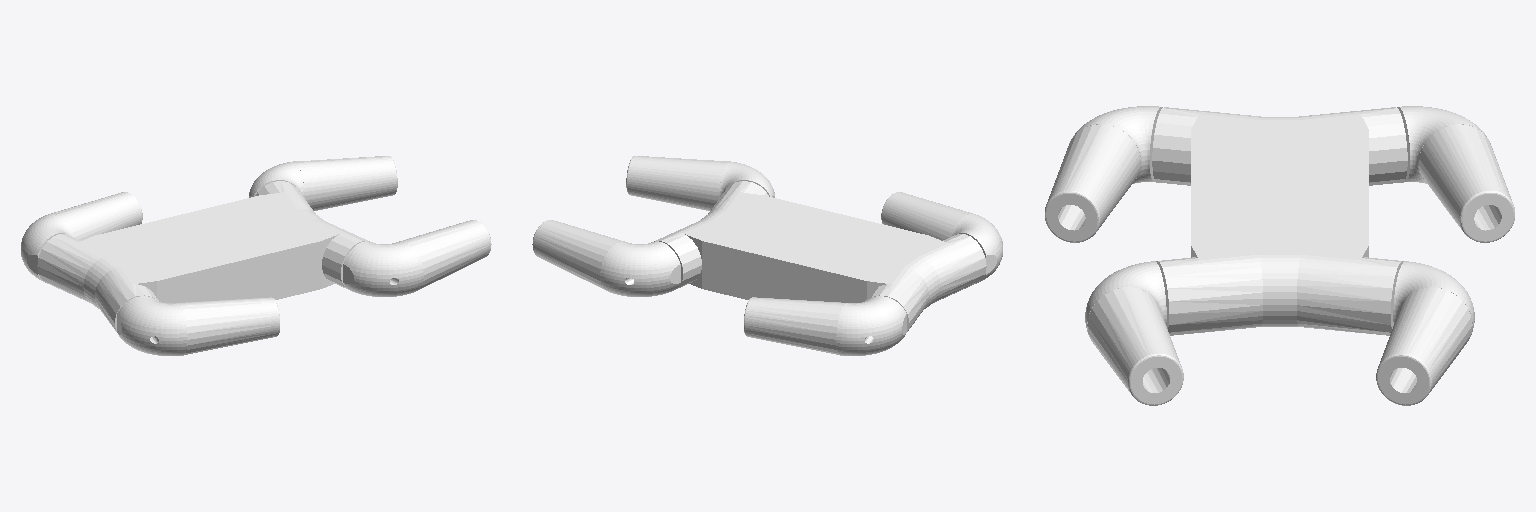
The robot description file, URDF, robot "13_degree":
<?xml version="1.0" encoding="utf-8"?>
<!-- This URDF was automatically created by SolidWorks to URDF Exporter! Originally created by [author] ([email redacted]) 
     Commit Version: 1.5.1-0-g916b5db  Build Version: 1.5.7152.31018
     For more information, please see http://wiki.ros.org/sw_urdf_exporter -->
<robot
  name="13_degree">
  <link
    name="base_link">
    <inertial>
      <origin
        xyz="1.3878E-17 3.1499E-08 -4.715E-15"
        rpy="0 0 0" />
      <mass
        value="2.942" />
      <inertia
        ixx="0.0100766"
        ixy="1.1102E-11"
        ixz="-1.5333E-10"
        iyy="0.0424493"
        iyz="-6.7806E-19"
        izz="0.0501301" />
    </inertial>
    <visual>
      <origin
        xyz="0 0 0"
        rpy="0 0 0" />
      <geometry>
        <mesh
          filename="package://13_degree/meshes/base_link.STL" />
      </geometry>
      <material
        name="">
        <color
          rgba="1 1 1 1" />
      </material>
    </visual>
    <collision>
      <origin
        xyz="0 0 0"
        rpy="0 0 0" />
      <geometry>
        <mesh
          filename="package://13_degree/meshes/base_link.STL" />
      </geometry>
    </collision>
  </link>
  <link
    name="left_front_link">
    <inertial>
      <origin
        xyz="-2.134E-08 0.063474 -0.022304"
        rpy="0 0 0" />
      <mass
        value="0.092" />
      <inertia
        ixx="0.0002604"
        ixy="5.8546E-10"
        ixz="9.3266E-10"
        iyy="0.0000530"
        iyz="-0.0000245"
        izz="0.0002571" />
    </inertial>
    <visual>
      <origin
        xyz="0 0 0"
        rpy="0 0 0" />
      <geometry>
        <mesh
          filename="package://13_degree/meshes/left_front_link.STL" />
      </geometry>
      <material
        name="">
        <color
          rgba="1 1 1 1" />
      </material>
    </visual>
    <collision>
      <origin
        xyz="0 0 0"
        rpy="0 0 0" />
      <geometry>
        <mesh
          filename="package://13_degree/meshes/left_front_link.STL" />
      </geometry>
    </collision>
  </link>
  <joint
    name="left_front_leg"
    type="continuous">
    <origin
      xyz="0.15317 0.10036 0"
      rpy="1.5708 1.5708 0" />
    <parent
      link="base_link" />
    <child
      link="left_front_link" />
    <axis
      xyz="0 0.22495 -0.97437" />
    <limit
      effort="5"
      velocity="487" />
  </joint>
  <link
    name="right_front_link">
    <inertial>
      <origin
        xyz="2.134E-08 0.063474 0.022304"
        rpy="0 0 0" />
      <mass
        value="0.092" />
      <inertia
        ixx="0.0002604"
        ixy="-5.8546E-10"
        ixz="9.3266E-10"
        iyy="0.0000530"
        iyz="0.0000245"
        izz="0.0002571" />
    </inertial>
    <visual>
      <origin
        xyz="0 0 0"
        rpy="0 0 0" />
      <geometry>
        <mesh
          filename="package://13_degree/meshes/right_front_link.STL" />
      </geometry>
      <material
        name="">
        <color
          rgba="1 1 1 1" />
      </material>
    </visual>
    <collision>
      <origin
        xyz="0 0 0"
        rpy="0 0 0" />
      <geometry>
        <mesh
          filename="package://13_degree/meshes/right_front_link.STL" />
      </geometry>
    </collision>
  </link>
  <joint
    name="right_front_leg"
    type="continuous">
    <origin
      xyz="0.15317 -0.10036 0"
      rpy="1.5708 1.5708 0" />
    <parent
      link="base_link" />
    <child
      link="right_front_link" />
    <axis
      xyz="0 0.22495 0.97437" />
    <limit
      effort="5"
      velocity="487" />
  </joint>
  <link
    name="right_back_link">
    <inertial>
      <origin
        xyz="8.7182E-08 0.056834 0.03601"
        rpy="0 0 0" />
      <mass
        value="0.092" />
      <inertia
        ixx="0.0002604"
        ixy="-5.2859E-10"
        ixz="5.7957E-10"
        iyy="0.0000526"
        iyz="-2.27E-05"
        izz="0.0002575" />
    </inertial>
    <visual>
      <origin
        xyz="0 0 0"
        rpy="0 0 0" />
      <geometry>
        <mesh
          filename="package://13_degree/meshes/right_back_link.STL" />
      </geometry>
      <material
        name="">
        <color
          rgba="1 1 1 1" />
      </material>
    </visual>
    <collision>
      <origin
        xyz="0 0 0"
        rpy="0 0 0" />
      <geometry>
        <mesh
          filename="package://13_degree/meshes/right_back_link.STL" />
      </geometry>
    </collision>
  </link>
  <joint
    name="right_back_leg"
    type="continuous">
    <origin
      xyz="-0.15317 -0.10036 0"
      rpy="1.7977 1.5708 0" />
    <parent
      link="base_link" />
    <child
      link="right_back_link" />
    <axis
      xyz="0 0 1" />
    <limit
      effort="5"
      velocity="487" />
  </joint>
  <link
    name="left_back_link">
    <inertial>
      <origin
        xyz="-8.7182E-08 0.047277 -0.047872"
        rpy="0 0 0" />
      <mass
        value="0.092" />
      <inertia
        ixx="0.0002604"
        ixy="6.4542E-10"
        ixz="4.4581E-10"
        iyy="0.0000729"
        iyz="0.0000653"
        izz="0.0002372" />
    </inertial>
    <visual>
      <origin
        xyz="0 0 0"
        rpy="0 0 0" />
      <geometry>
        <mesh
          filename="package://13_degree/meshes/left_back_link.STL" />
      </geometry>
      <material
        name="">
        <color
          rgba="1 1 1 1" />
      </material>
    </visual>
    <collision>
      <origin
        xyz="0 0 0"
        rpy="0 0 0" />
      <geometry>
        <mesh
          filename="package://13_degree/meshes/left_back_link.STL" />
      </geometry>
    </collision>
  </link>
  <joint
    name="left_back_leg"
    type="continuous">
    <origin
      xyz="-0.15317 0.10036 0"
      rpy="1.5708 1.5708 0" />
    <parent
      link="base_link" />
    <child
      link="left_back_link" />
    <axis
      xyz="0 -0.22495 -0.97437" />
    <limit
      effort="5"
      velocity="487" />
  </joint>
</robot>

--- Facts derived from the render (not from the file) ---
3 views of the same robot in one strip: view 1: azimuth 30°, elevation 25°; view 2: azimuth 150°, elevation 25°; view 3: azimuth 270°, elevation 25° (orthographic).
Model 13_degree with 5 links and 4 joints (4 continuous), rooted at base_link, posed every joint at zero.
Links seen in each view (by area): view 1: base_link, right_back_link, right_front_link, left_front_link, left_back_link; view 2: base_link, left_back_link, left_front_link, right_front_link, right_back_link; view 3: base_link, left_back_link, right_back_link, right_front_link, left_front_link.
Link boxes in pixels (x1,y1,x2,y2): base_link: (37, 181, 369, 331); right_back_link: (117, 296, 279, 355); right_front_link: (343, 220, 491, 296); left_front_link: (249, 156, 397, 210); left_back_link: (21, 192, 142, 282); base_link: (654, 181, 986, 331); left_back_link: (744, 296, 906, 355); left_front_link: (532, 220, 680, 296); right_front_link: (626, 156, 774, 210); right_back_link: (881, 192, 1002, 282); base_link: (1152, 107, 1407, 335); left_back_link: (1397, 106, 1514, 242); right_back_link: (1045, 106, 1162, 242); right_front_link: (1085, 261, 1183, 405); left_front_link: (1376, 261, 1474, 405).
Bounding box of the posed robot: 0.5077 × 0.3963 × 0.064 m (x, y, z).
5 mesh visuals loaded from 5 distinct referenced files (5 binary STL).